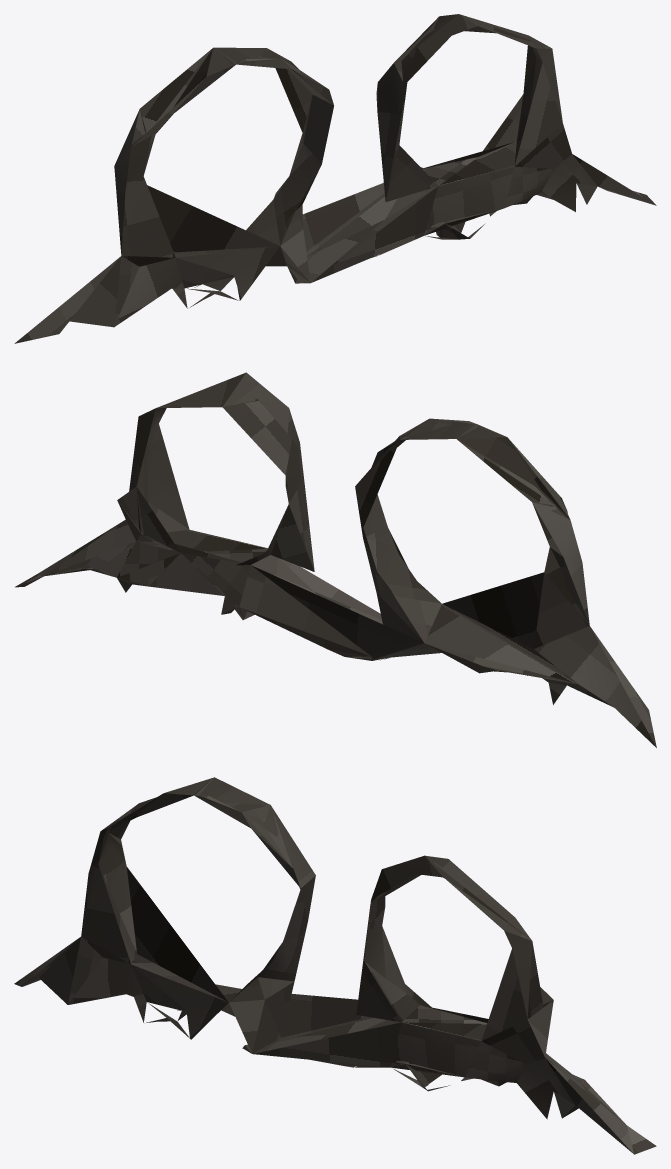
Rendered from stunt-double-loop-ramps.collision.glb.
The picture shows the model from 3 angles, top to bottom: view 1: azimuth 30°, elevation 25°; view 2: azimuth 150°, elevation 25°; view 3: azimuth 330°, elevation 25°; orthographic projection. The views are drawn at different scales.
Parts seen in each view (by area): view 1: output_unwrapped; view 2: output_unwrapped; view 3: output_unwrapped.
Part boxes in pixels (x1,y1,x2,y2): output_unwrapped: [14, 14, 656, 343]; output_unwrapped: [15, 372, 656, 747]; output_unwrapped: [14, 777, 656, 1154].
Size of the model in its own units: 1.61 by 0.6158 by 0.1678.
1 material, 1 textured.
